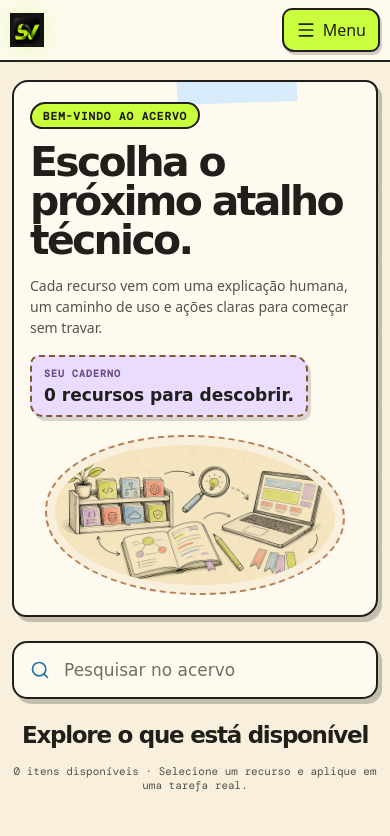
Test: opens a compact mobile menu that groups navigation, account and community
This screenshot has width=390, height=836.
Click the button with aria-label "Abrir menu principal" at (331, 30), box x1=282 y1=8 x2=380 y2=52
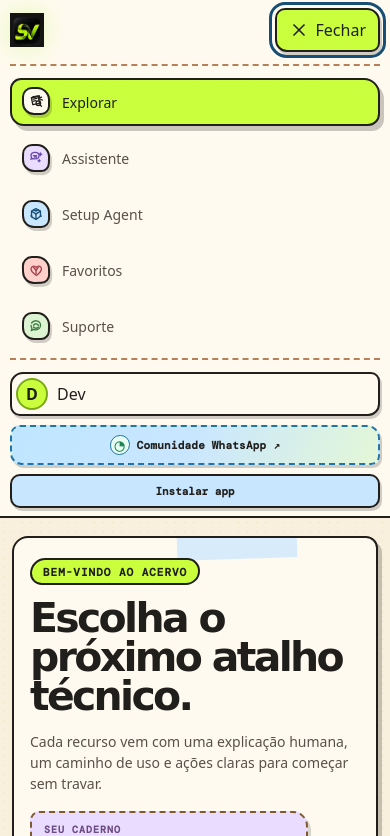
Check: the button with aria-label "Fechar menu principal" is expanded, box x1=274 y1=8 x2=380 y2=52
